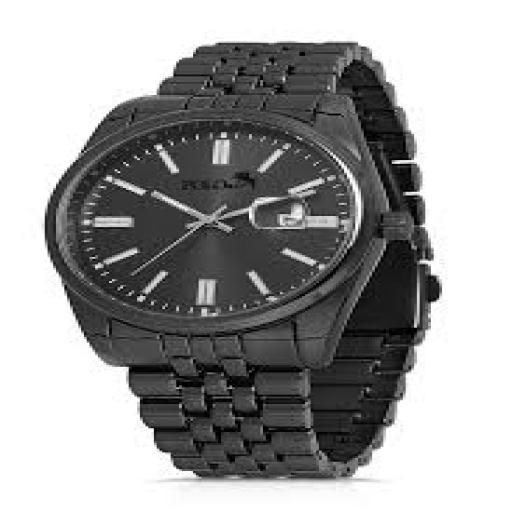KolSaati: (37, 13, 512, 490)
